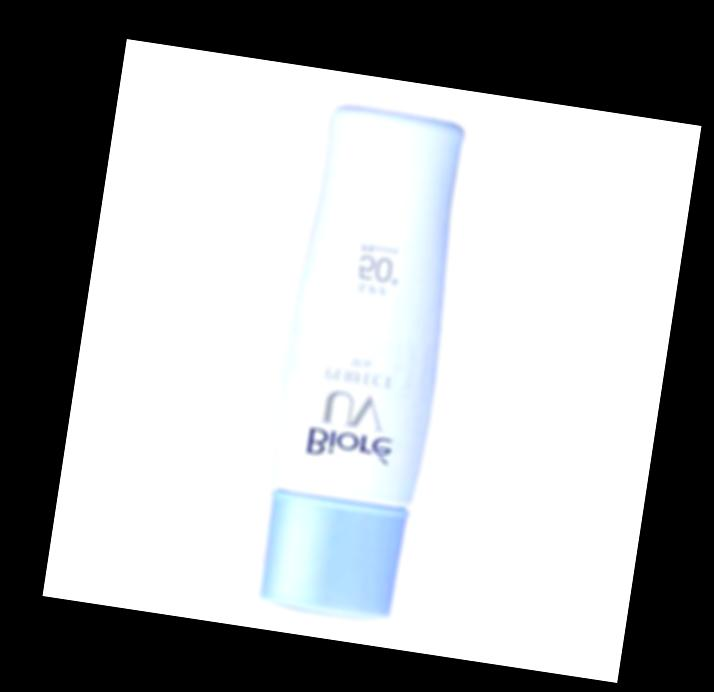cosmetic: (244, 102, 483, 625)
